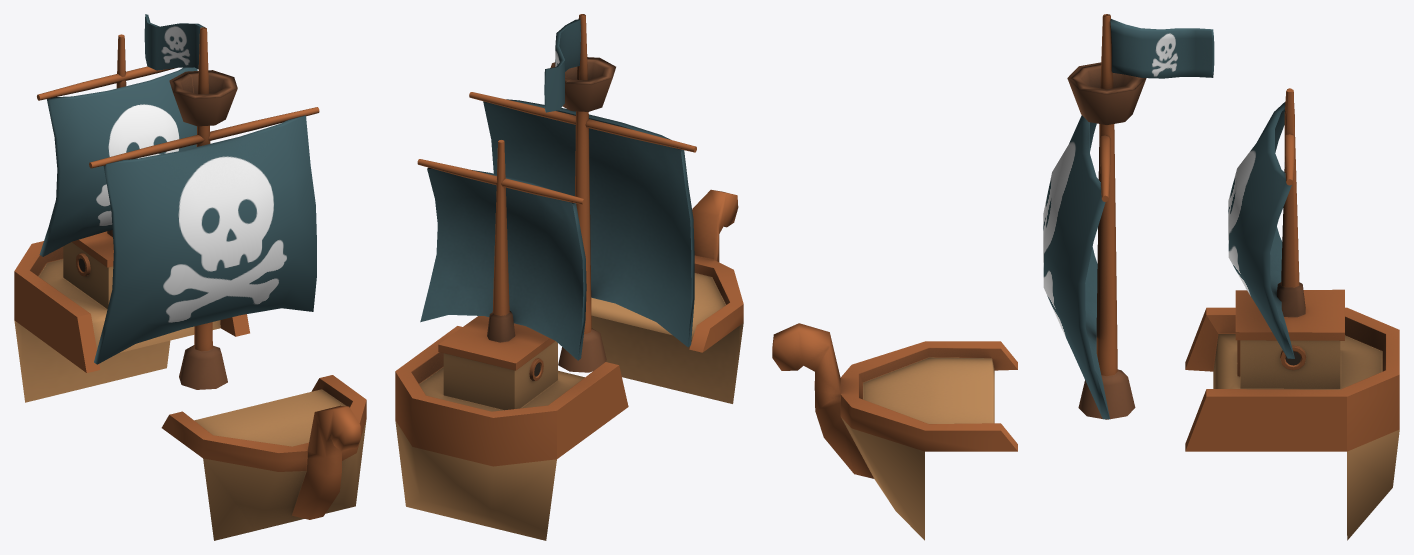
Rendered from botPirateParts.fbx.
3 views of the same model, side by side, from view 1: azimuth 30°, elevation 25°; view 2: azimuth 150°, elevation 25°; view 3: azimuth 270°, elevation 25° (orthographic). The views are drawn at different scales.
Parts seen in each view (by area): view 1: PirateShip_mastMain, PirateShip_back, PirateShip_front; view 2: PirateShip_back, PirateShip_mastMain, PirateShip_front; view 3: PirateShip_back, PirateShip_mastMain, PirateShip_front.
Part boxes in pixels (x1,y1,x2,y2): PirateShip_mastMain: [89, 14, 319, 389]; PirateShip_back: [14, 34, 249, 402]; PirateShip_front: [161, 375, 366, 540]; PirateShip_back: [395, 140, 628, 540]; PirateShip_mastMain: [469, 14, 696, 372]; PirateShip_front: [591, 189, 743, 403]; PirateShip_back: [1185, 88, 1399, 540]; PirateShip_mastMain: [1043, 14, 1214, 419]; PirateShip_front: [772, 323, 1017, 540].
Size of the model in its own units: 2.78 by 5.09 by 5.95.
